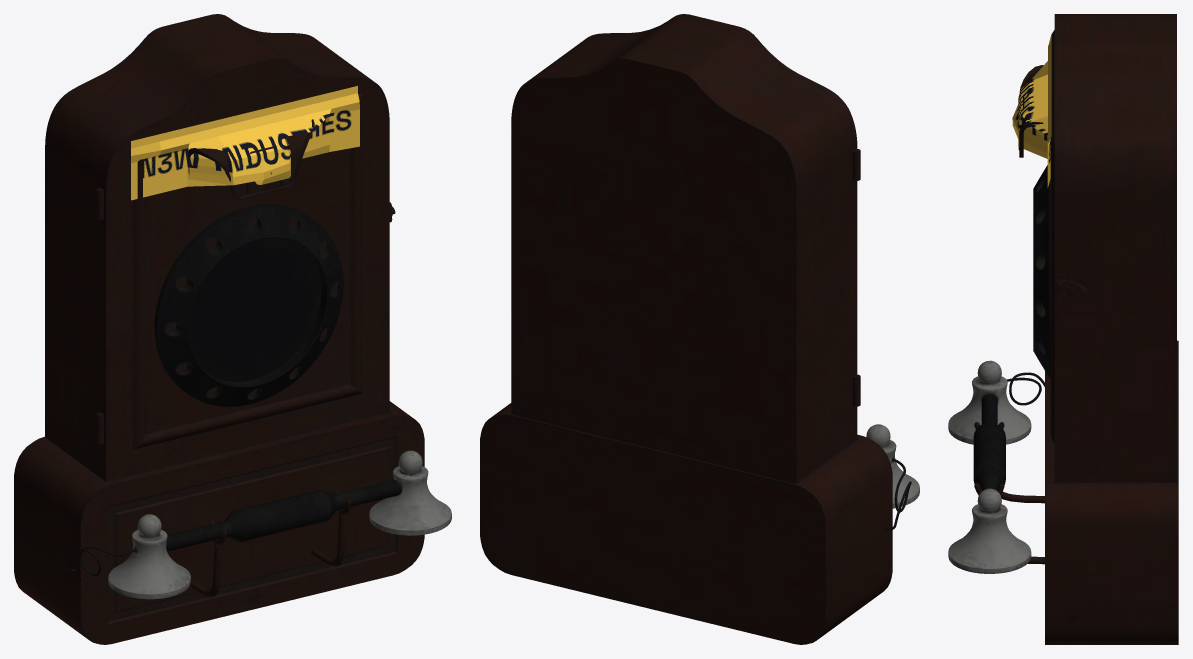
File: nyb_hudsucker_phone.glb
3 views of the same model, side by side, from view 1: azimuth 30°, elevation 25°; view 2: azimuth 150°, elevation 25°; view 3: azimuth 270°, elevation 25° (orthographic).
Parts seen in each view (by area): view 1: vintage_telephone_wall_clock, stk_lbl_f5cb135506.png; view 2: vintage_telephone_wall_clock; view 3: vintage_telephone_wall_clock, stk_lbl_f5cb135506.png.
Boxes of the visible parts, x1,y1,x2,y2 form: vintage_telephone_wall_clock: (14,14,451,644); stk_lbl_f5cb135506.png: (131,86,359,200); vintage_telephone_wall_clock: (480,14,919,644); vintage_telephone_wall_clock: (948,14,1178,644); stk_lbl_f5cb135506.png: (1012,34,1051,187).
Bounding box in the file's own units: 0.3428 × 0.5012 × 0.1926.
Materials: 3 (3 with a texture image).
